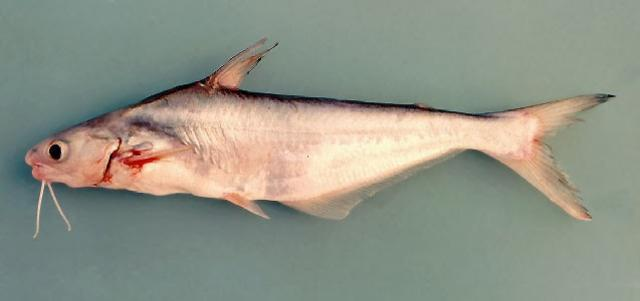Mulut: (19, 136, 69, 230)
Sirip Anal: (278, 144, 470, 226)
Sirip Dada: (120, 138, 190, 174)
Sirip Ekor: (506, 88, 624, 230)
Sirip Perut: (215, 184, 275, 224)
Sirip Punggung: (210, 34, 280, 96)
